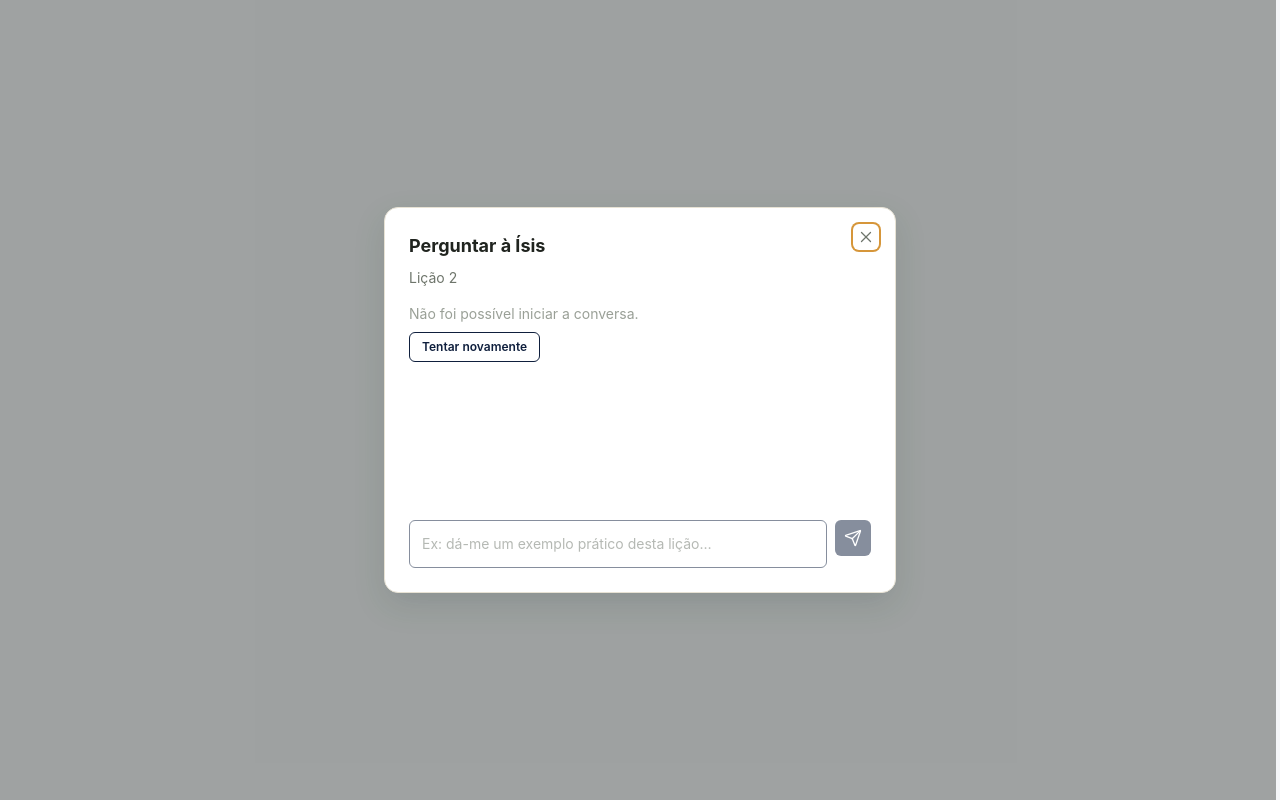
Test case: LessonTutorModal — início de sessão › "Tentar novamente" repete o pedido e recupera
Click the button "Tentar novamente".
click(475, 347)  # box [409, 332, 540, 362]
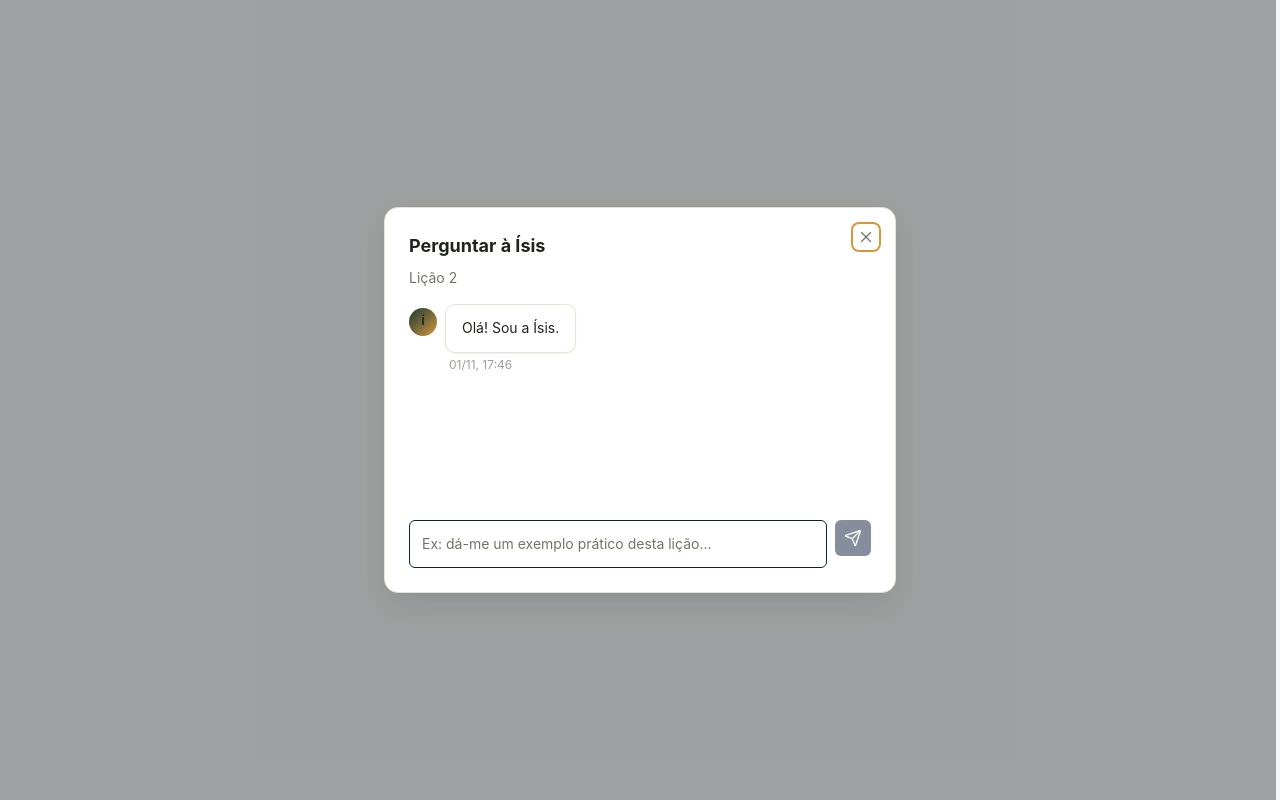
Expected: the text "Olá! Sou a Ísis." is shown, [462, 319, 559, 336]
